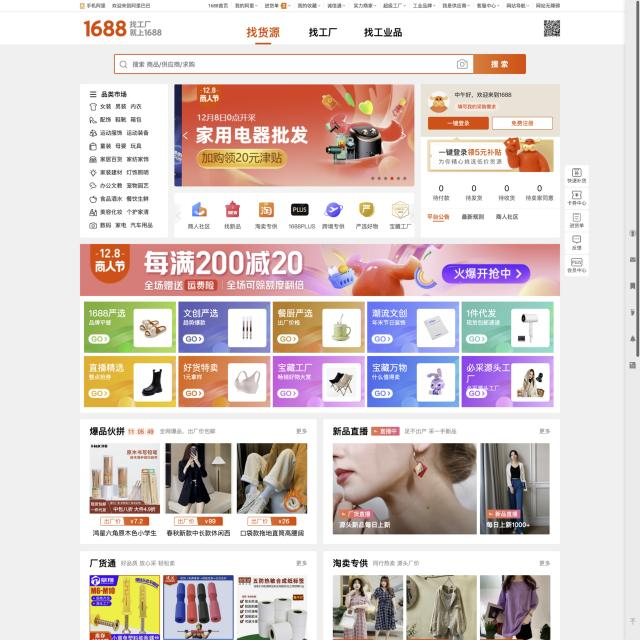input: (114, 52, 528, 76)
logo: (83, 16, 165, 41)
navigation: (88, 88, 156, 236), (78, 0, 561, 10), (243, 20, 407, 46)
